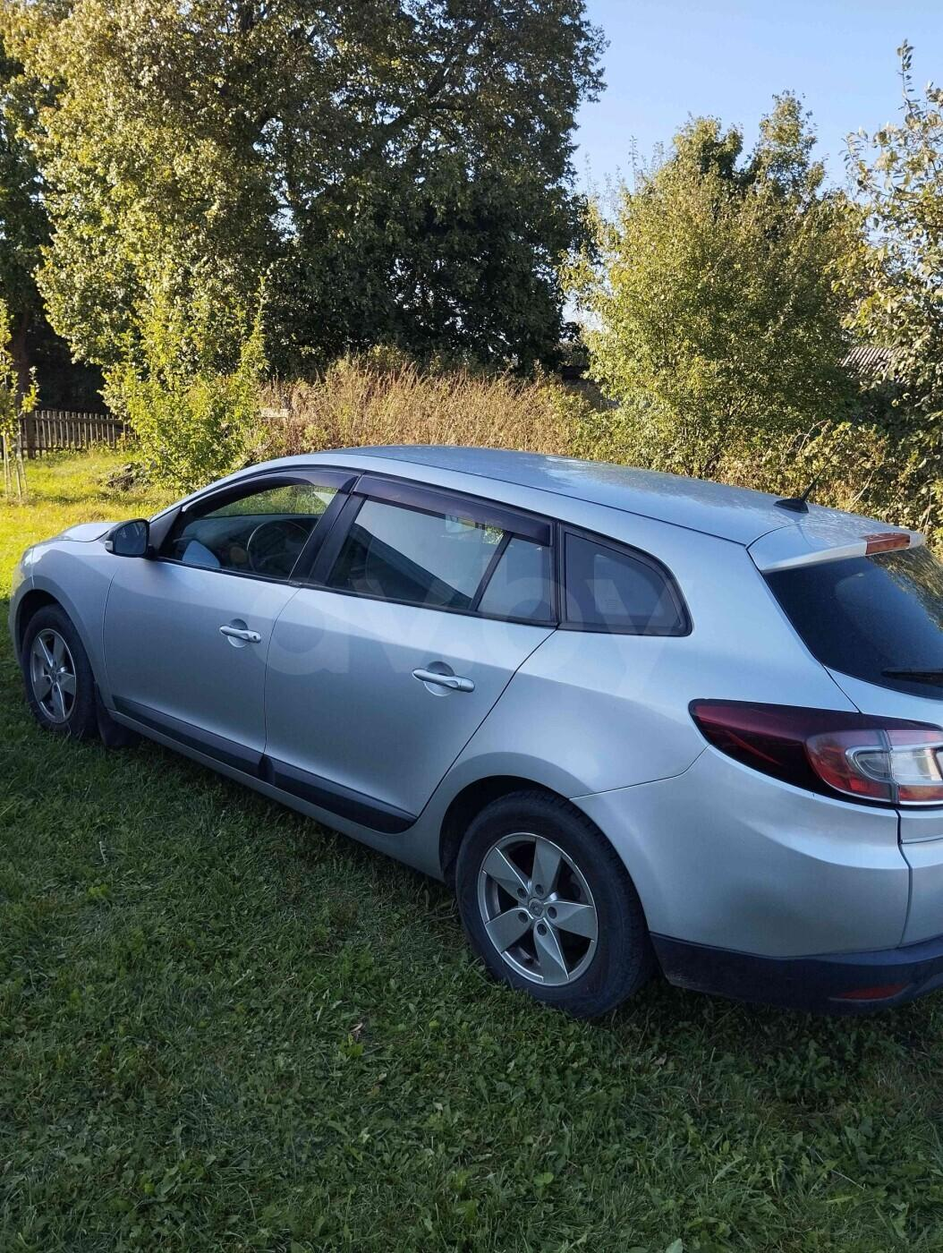Megane_2008-2014: (4, 437, 943, 1006)
